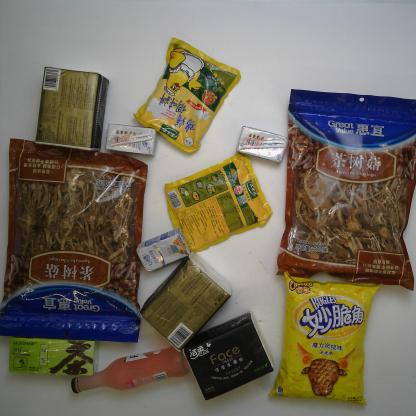Alcohol: (70, 346, 192, 392)
Dried Food: (1, 136, 149, 343), (277, 88, 416, 291)
Instant Drink: (6, 337, 101, 378)
Milk: (135, 225, 190, 272), (237, 122, 289, 164), (105, 119, 159, 158)
Puffed Food: (268, 272, 385, 408)
Seasoner: (131, 35, 242, 155), (163, 153, 274, 254)
Tissue: (140, 250, 233, 354), (184, 312, 276, 402), (34, 65, 110, 153)
